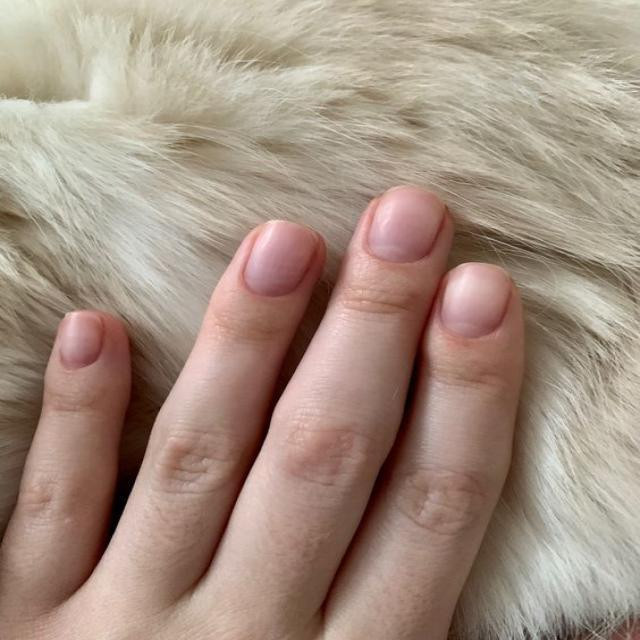Fingernail: (368, 187, 444, 263), (245, 222, 317, 297), (442, 264, 510, 338), (61, 312, 102, 370)
